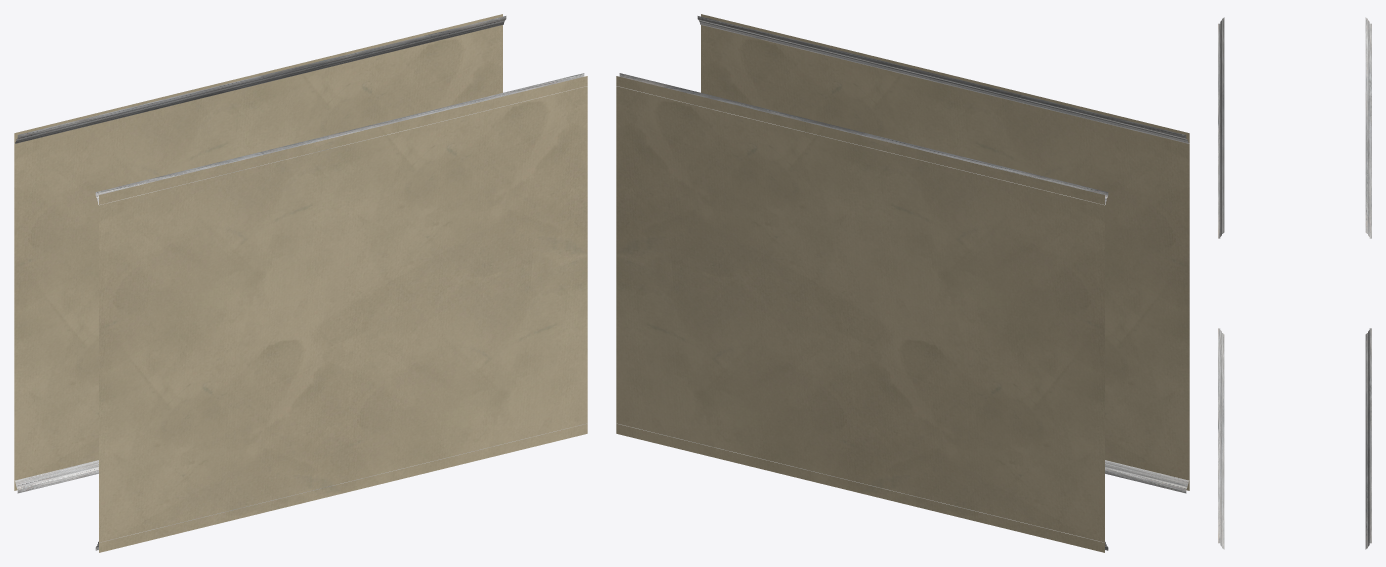
Rendered from HallwayWall.fbx.
3 renders of one model, left to right at view 1: azimuth 30°, elevation 25°; view 2: azimuth 150°, elevation 25°; view 3: azimuth 270°, elevation 25°, orthographic. The views are drawn at different scales.
Visible parts, largest first — view 1: Cube.003; view 2: Cube.003; view 3: Cube.003.
Boxes of the visible parts, <box> form: Cube.003: <box>14,14,587,552</box>; Cube.003: <box>616,14,1189,552</box>; Cube.003: <box>1218,17,1371,549</box>.
Size of the model in its own units: 200 by 140 by 60.44.
